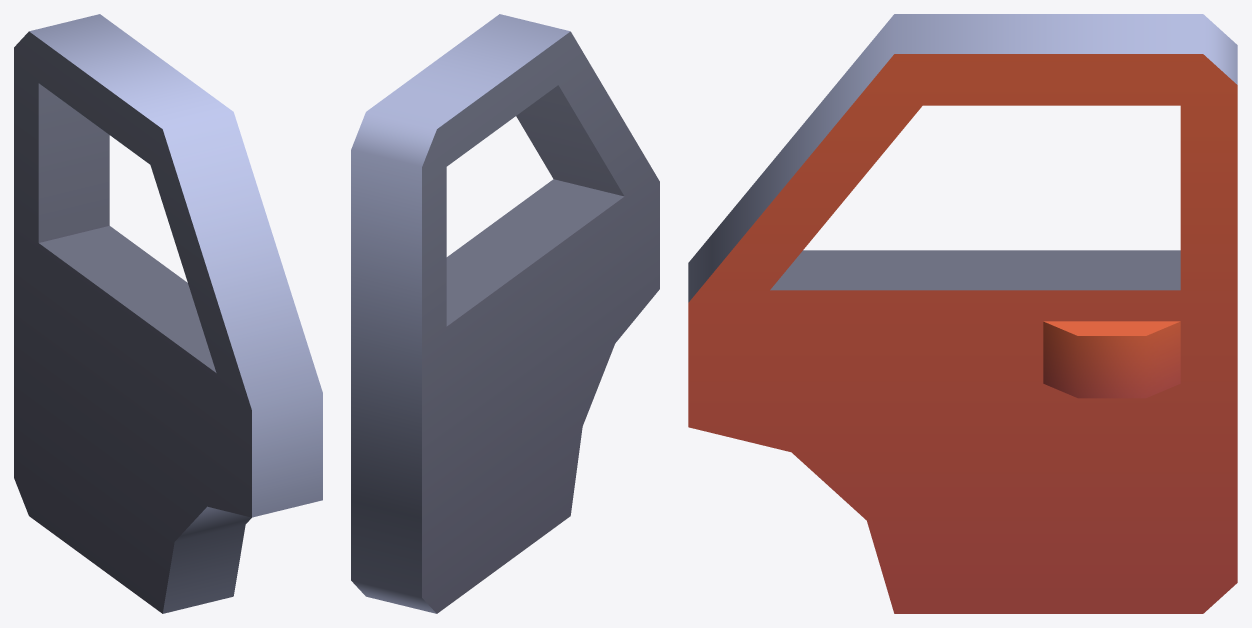
File: debris-door.glb
3 renders of one model, left to right at view 1: azimuth 30°, elevation 25°; view 2: azimuth 150°, elevation 25°; view 3: azimuth 270°, elevation 25°, orthographic. The views are drawn at different scales.
Visible parts, largest first — view 1: debris-door; view 2: debris-door; view 3: debris-door.
Boxes of the visible parts, <box> form: debris-door: <box>14,14,322,613</box>; debris-door: <box>351,14,659,613</box>; debris-door: <box>688,14,1237,613</box>.
Bounding box in the file's own units: 0.188 × 0.9 × 0.8.
Materials: 1 (1 with a texture image).
